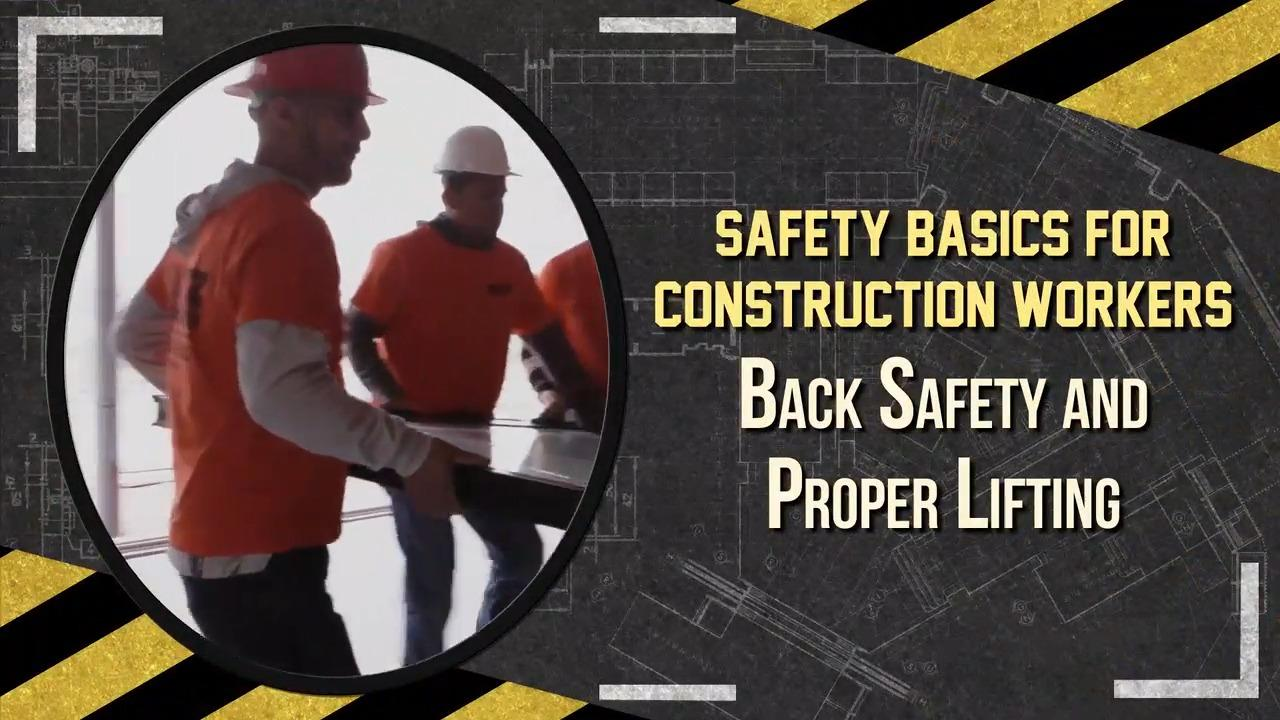Helmet: (222, 42, 387, 106), (432, 124, 522, 177)
Person: (345, 124, 597, 667)
bare-arms: (395, 438, 466, 520)
no-vest: (174, 224, 324, 535), (349, 218, 555, 419)
